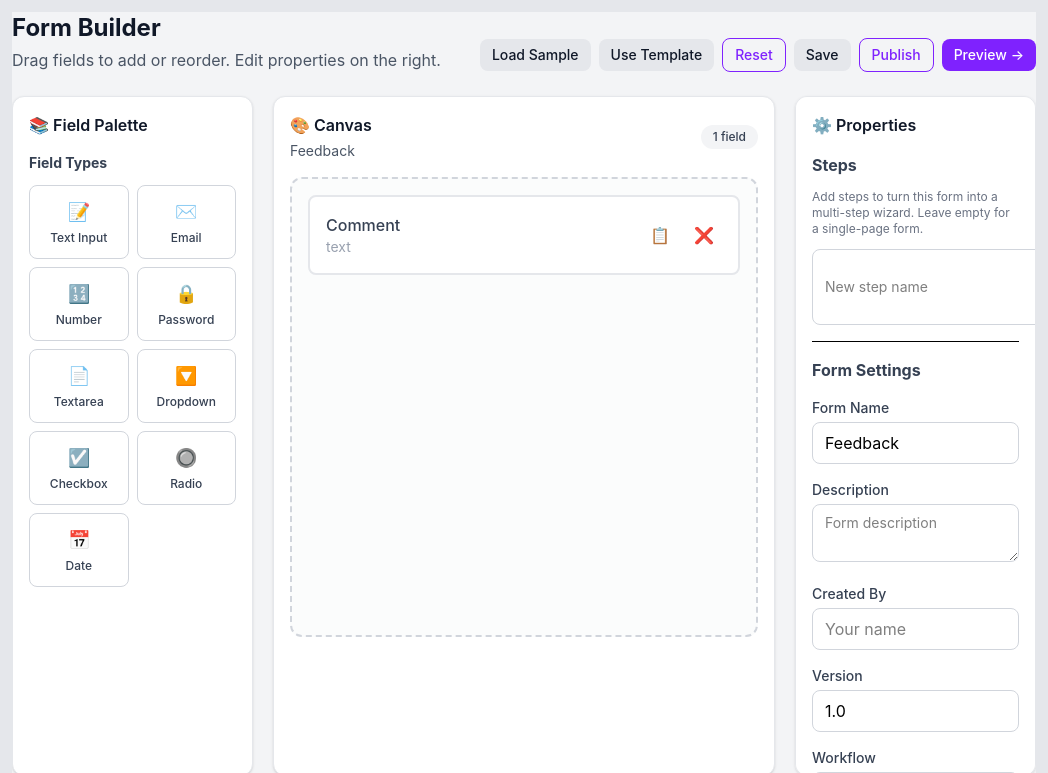
Test: FormBuilder page › saves a new form via the API and records its assigned id
Click the button "Save".
click(822, 55)  # box [794,39,851,71]
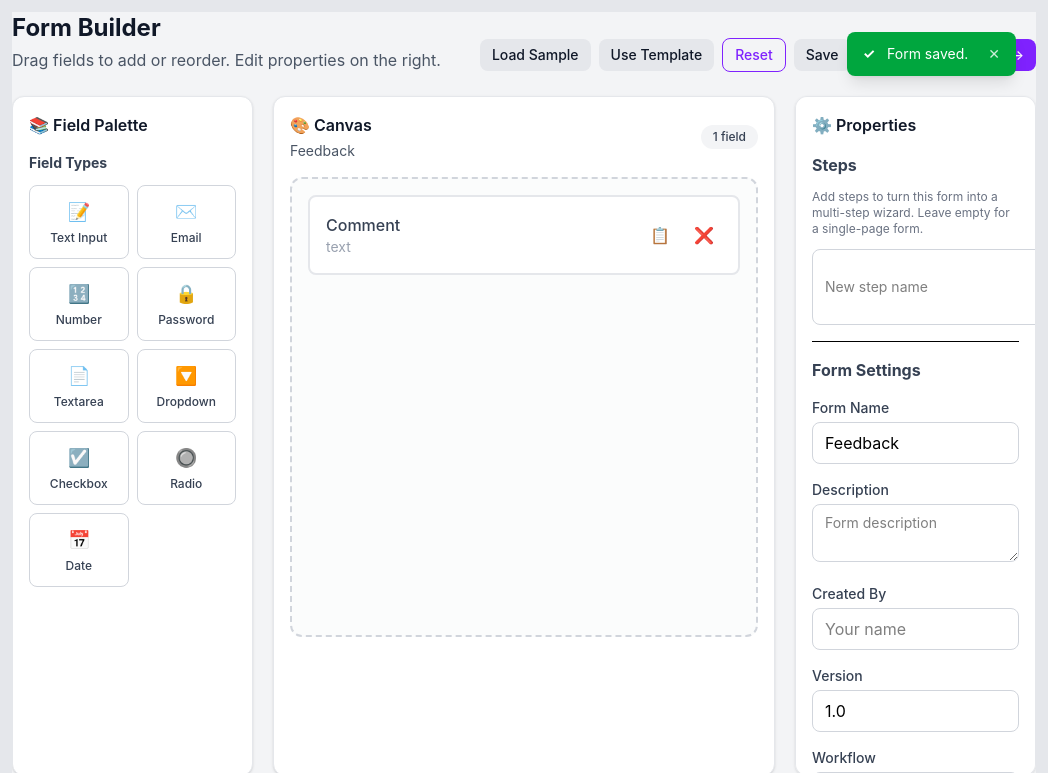
Result: the text "Form saved." is shown at [887,44,968,64]
